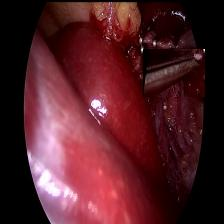Grasper: (142, 48, 203, 96)
